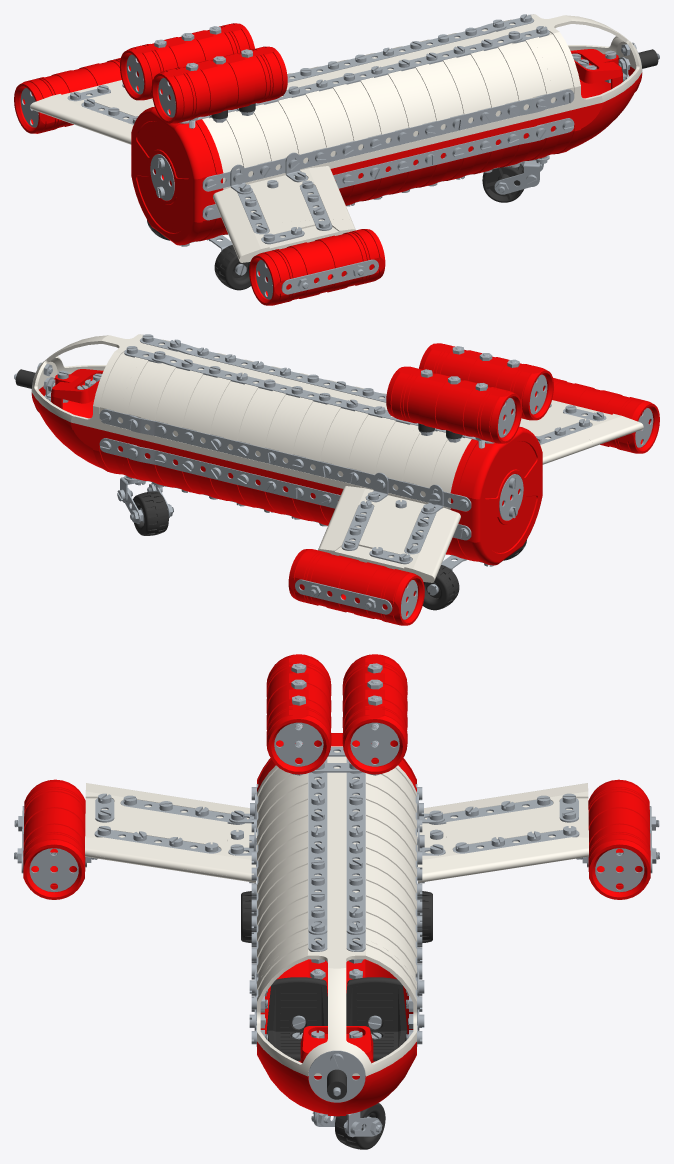
Rendered from Gleiter.glb.
3 views of the same model, one above another, from view 1: azimuth 30°, elevation 25°; view 2: azimuth 150°, elevation 25°; view 3: azimuth 270°, elevation 25° (orthographic). The views are drawn at different scales.
Visible parts, largest first — view 1: Zylindersegment Weiss (×6), Zylindersegment 34 (×8), Lochband 25 gebogen (×4), Zylinderrückwand Rot (×2), Zylindersegment Rot (×4), Kanzel 80, Tragflächensegment (×2), Flügelansatz rechts (×2), Bugsegment 80, Scheibe 30 (×5), Lochband 7 (×3), Rad 27,5 x 15,5 (×2) (+2 smaller); view 2: Zylindersegment Weiss (×6), Zylindersegment 34 (×8), Lochband 25 gebogen (×4), Zylinderrückwand Rot (×2), Zylindersegment Rot (×4), Kanzel 80, Tragflächensegment (×2), Flügelansatz links (×2), Bugsegment 80, Scheibe 30 (×5), Rad 27,5 x 15,5 (×2), Lochband 7 (×3) (+2 smaller); view 3: Zylindersegment Weiss (×6), Zylindersegment 34 (×8), Tragflächensegment (×2), Scheibe 30 (×5), Sitz (×4), Kanzel 80, Flügelansatz rechts (×2), Flügelansatz links (×2), Lochband 25 gebogen (×2), Bugsegment 80, Lochband 7 (×4), Traktor Armaturenbrett (+2 smaller).
Boxes of the visible parts, x1,y1,x2,y2 form: Zylindersegment Weiss (×6): (202, 21, 553, 189); Zylindersegment 34 (×8): (14, 23, 385, 305); Lochband 25 gebogen (×4): (179, 23, 547, 220); Zylinderrückwand Rot (×2): (131, 106, 223, 245); Zylindersegment Rot (×4): (333, 114, 553, 205); Kanzel 80: (504, 14, 642, 114); Tragflächensegment (×2): (81, 95, 351, 231); Flügelansatz rechts (×2): (213, 166, 355, 259); Bugsegment 80: (539, 54, 642, 158); Scheibe 30 (×5): (20, 54, 272, 299); Lochband 7 (×3): (237, 184, 378, 294); Rad 27,5 x 15,5 (×2): (214, 163, 523, 290); Zylindersegment Weiss (×6): (120, 341, 471, 509); Zylindersegment 34 (×8): (288, 343, 659, 625); Lochband 25 gebogen (×4): (126, 343, 494, 540); Zylinderrückwand Rot (×2): (450, 426, 542, 565); Zylindersegment Rot (×4): (120, 434, 340, 525); Kanzel 80: (31, 334, 169, 434); Tragflächensegment (×2): (322, 415, 592, 551); Flügelansatz links (×2): (318, 486, 460, 579); Bugsegment 80: (31, 374, 135, 478); Scheibe 30 (×5): (401, 374, 653, 619); Rad 27,5 x 15,5 (×2): (131, 491, 459, 610); Lochband 7 (×3): (295, 504, 436, 614); Zylindersegment Weiss (×6): (257, 746, 416, 985); Zylindersegment 34 (×8): (23, 654, 650, 899); Tragflächensegment (×2): (109, 794, 564, 868); Scheibe 30 (×5): (29, 722, 644, 1102); Sitz (×4): (266, 977, 407, 1061); Kanzel 80: (257, 939, 416, 1076); Flügelansatz rechts (×2): (85, 783, 256, 879); Flügelansatz links (×2): (417, 783, 588, 879); Lochband 25 gebogen (×2): (308, 758, 365, 934); Bugsegment 80: (257, 1041, 416, 1116); Lochband 7 (×4): (94, 799, 579, 853); Traktor Armaturenbrett: (300, 1026, 373, 1063).
Size of the model in its own units: 0.3811 by 0.1642 by 0.339.
